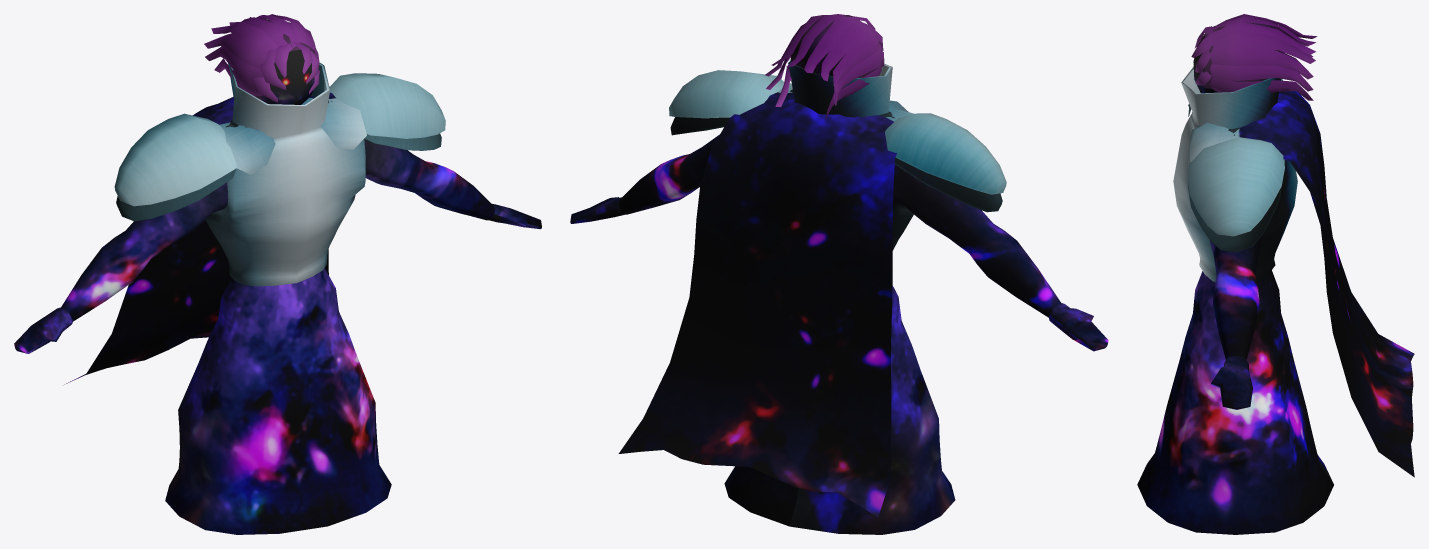
Rendered from Deneb.fbx.
The picture shows the model from 3 angles, left to right: view 1: azimuth 30°, elevation 25°; view 2: azimuth 150°, elevation 25°; view 3: azimuth 270°, elevation 25°; orthographic projection. The views are drawn at different scales.
Parts seen in each view (by area): view 1: geo1; view 2: geo1; view 3: geo1.
Part boxes in pixels (box(x1,y1,x2,y2)): geo1: box(14, 14, 541, 534); geo1: box(570, 14, 1108, 534); geo1: box(1137, 14, 1414, 534).
Size of the model in its own units: 7.7 by 6.58 by 3.53.
